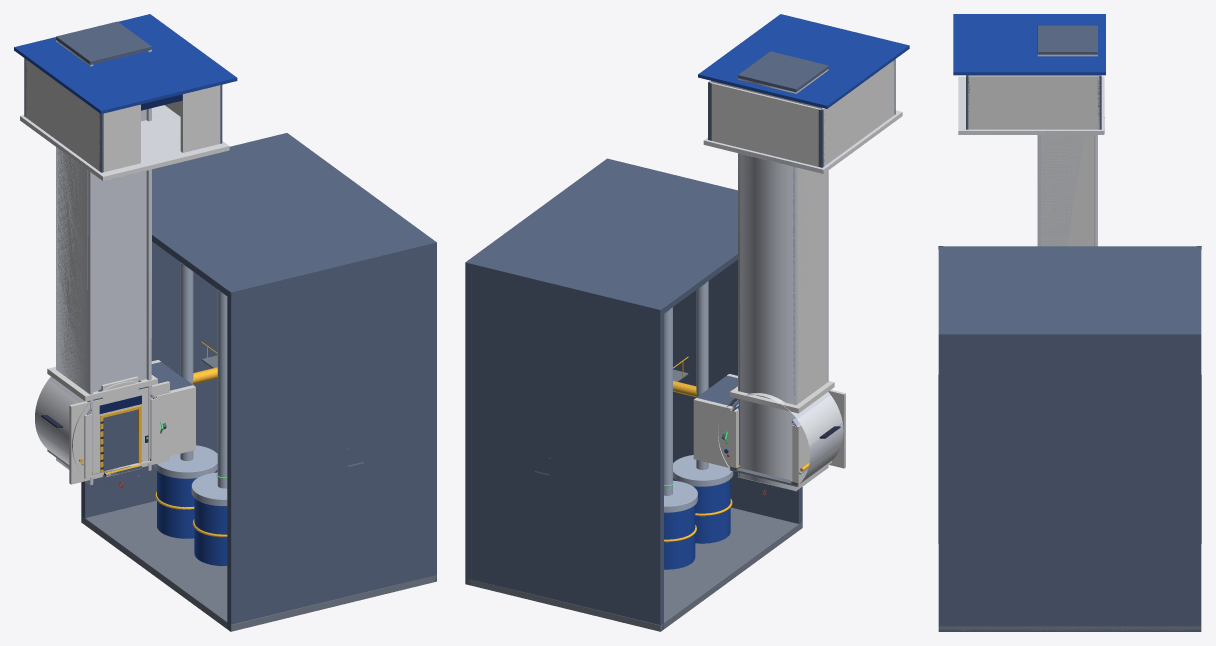
File: Corredor_Kit.fbx
The picture shows the model from 3 angles, left to right: view 1: azimuth 30°, elevation 25°; view 2: azimuth 150°, elevation 25°; view 3: azimuth 270°, elevation 25°; orthographic projection. The views are drawn at different scales.
Parts seen in each view (by area): view 1: Seg_Janela_CasaMaquinas, Elevador_Poco, Quiosque, COL_Poco_E, COL_Quiosque_Lado_E, Seg_Fim, COL_Seg_Porta_Portal_A, COL_Quiosque_Frente_D, COL_Quiosque_Frente_E, COL_Seg_Fim_E, Seg_A, Seg_Porta (+5 smaller); view 2: Seg_Janela_CasaMaquinas, Elevador_Poco, Quiosque, COL_Poco_E, COL_Quiosque_Fundo, COL_Quiosque_Lado_E, COL_Seg_Porta_Portal_B, Seg_Janela, Seg_Porta, Seg_A, COL_Seg_A_Teto, COL_Seg_A_Esq; view 3: Seg_Janela_CasaMaquinas, Quiosque, COL_Quiosque_Lado_D, Elevador_Poco, COL_Poco_D.
Part boxes in pixels (<box>): Seg_Janela_CasaMaquinas: <box>81,133,436,631</box>; Elevador_Poco: <box>56,21,151,485</box>; Quiosque: <box>14,14,237,176</box>; COL_Poco_E: <box>58,42,88,392</box>; COL_Quiosque_Lado_E: <box>25,59,100,171</box>; Seg_Fim: <box>87,380,152,485</box>; COL_Seg_Porta_Portal_A: <box>156,385,195,458</box>; COL_Quiosque_Frente_D: <box>180,85,220,152</box>; COL_Quiosque_Frente_E: <box>103,104,140,171</box>; COL_Seg_Fim_E: <box>69,398,102,484</box>; Seg_A: <box>35,380,158,474</box>; Seg_Porta: <box>35,362,192,474</box>; Seg_Janela_CasaMaquinas: <box>465,158,802,631</box>; Elevador_Poco: <box>738,51,828,491</box>; Quiosque: <box>698,14,909,173</box>; COL_Poco_E: <box>798,70,826,403</box>; COL_Quiosque_Fundo: <box>710,82,820,166</box>; COL_Quiosque_Lado_E: <box>822,60,894,166</box>; COL_Seg_Porta_Portal_B: <box>693,398,733,467</box>; Seg_Janela: <box>718,392,843,486</box>; Seg_Porta: <box>696,375,843,483</box>; Seg_A: <box>718,393,842,485</box>; COL_Seg_A_Teto: <box>729,381,834,413</box>; COL_Seg_A_Esq: <box>792,424,809,484</box>; Seg_Janela_CasaMaquinas: <box>938,246,1201,631</box>; Quiosque: <box>953,14,1105,134</box>; COL_Quiosque_Lado_D: <box>968,75,1099,129</box>; Elevador_Poco: <box>1037,25,1097,246</box>; COL_Poco_D: <box>1041,54,1094,246</box>.
Bounding box in the file's own units: 2020 × 3242 × 1603.
